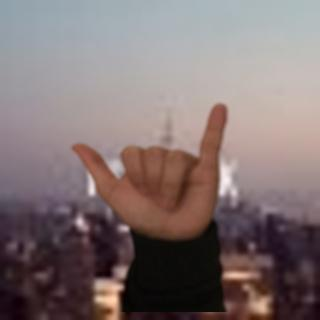HAVE: (74, 97, 239, 243)
